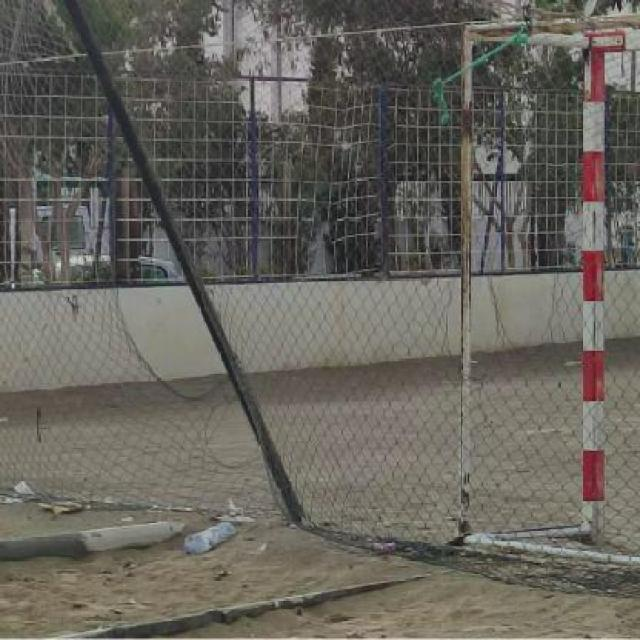fence line: (437, 206, 575, 399), (110, 254, 259, 400), (201, 406, 273, 472)
